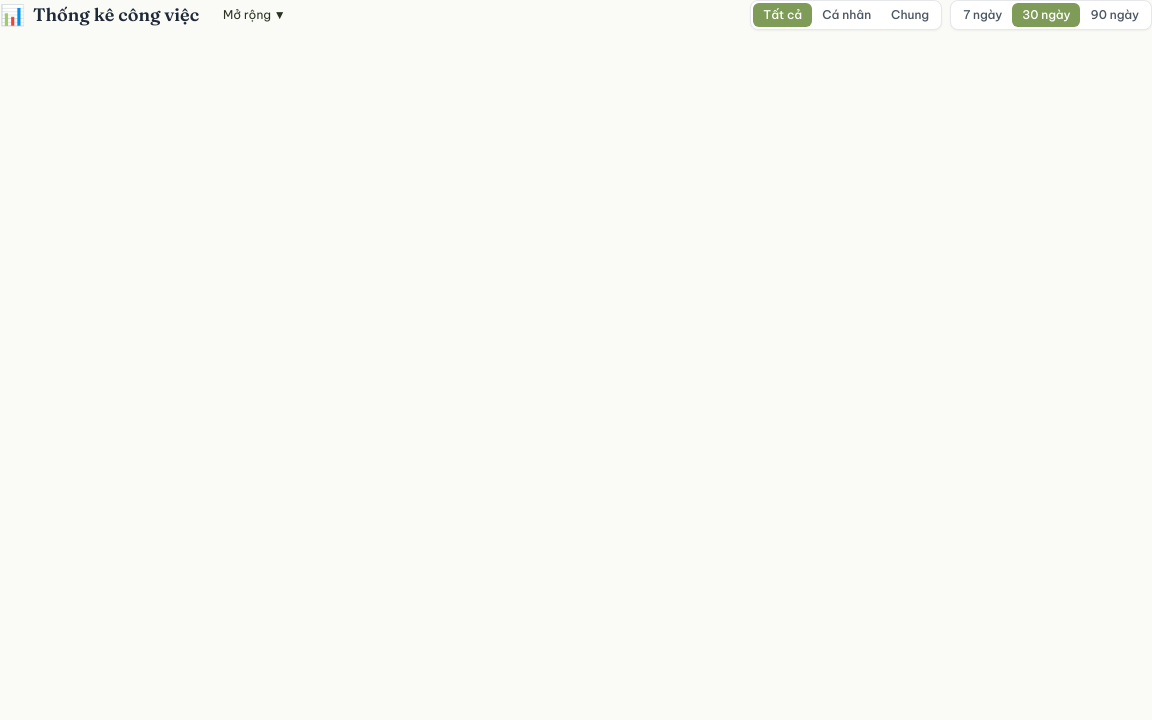
Test: StatsPanel component › toggles collapse state when collapsible prop is true
This screenshot has width=1152, height=720.
Expected: the text "Tỷ lệ đúng hạn" is not shown
Note: Click to expand
What coordinates should you click on to do the following:
click the button named "Mở rộng thống kê"
I would click on:
 (254, 15)
Its box is x1=215 y1=3 x2=294 y2=27.
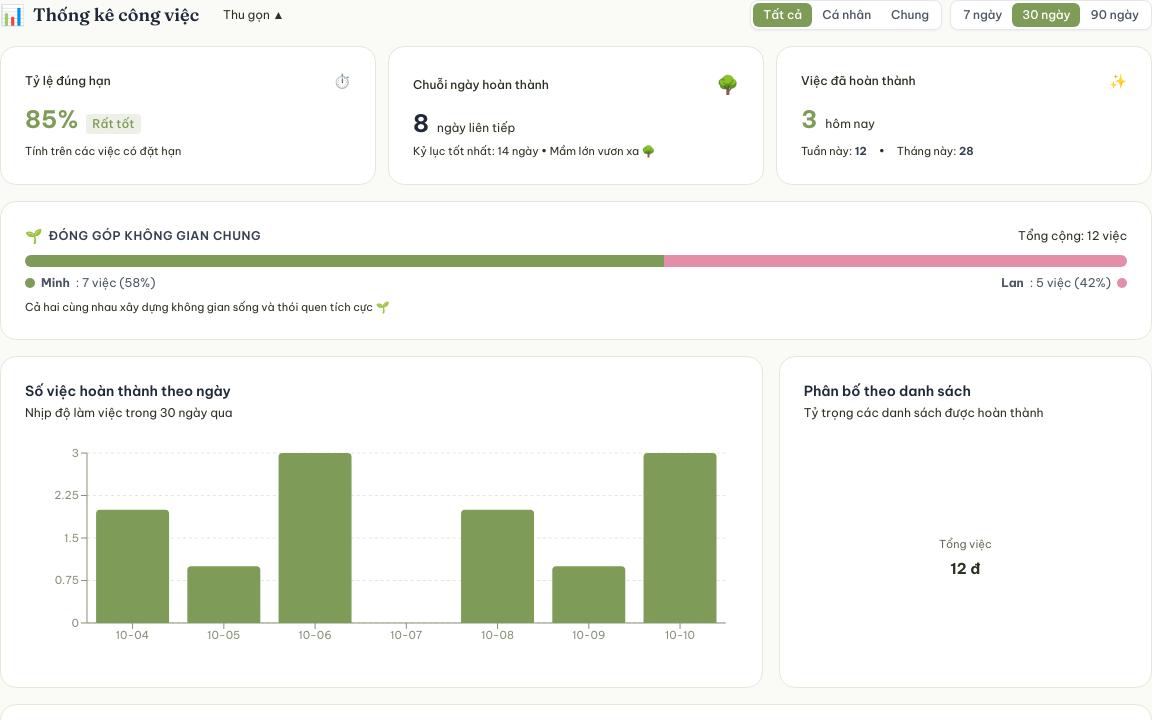
Expected: the text "Tỷ lệ đúng hạn" is shown, x1=25 y1=73 x2=111 y2=89
What coordinates should you click on to do the following:
click the button named "Thu gọn thống kê"
I would click on:
 (254, 15)
Its box is x1=215 y1=3 x2=292 y2=27.
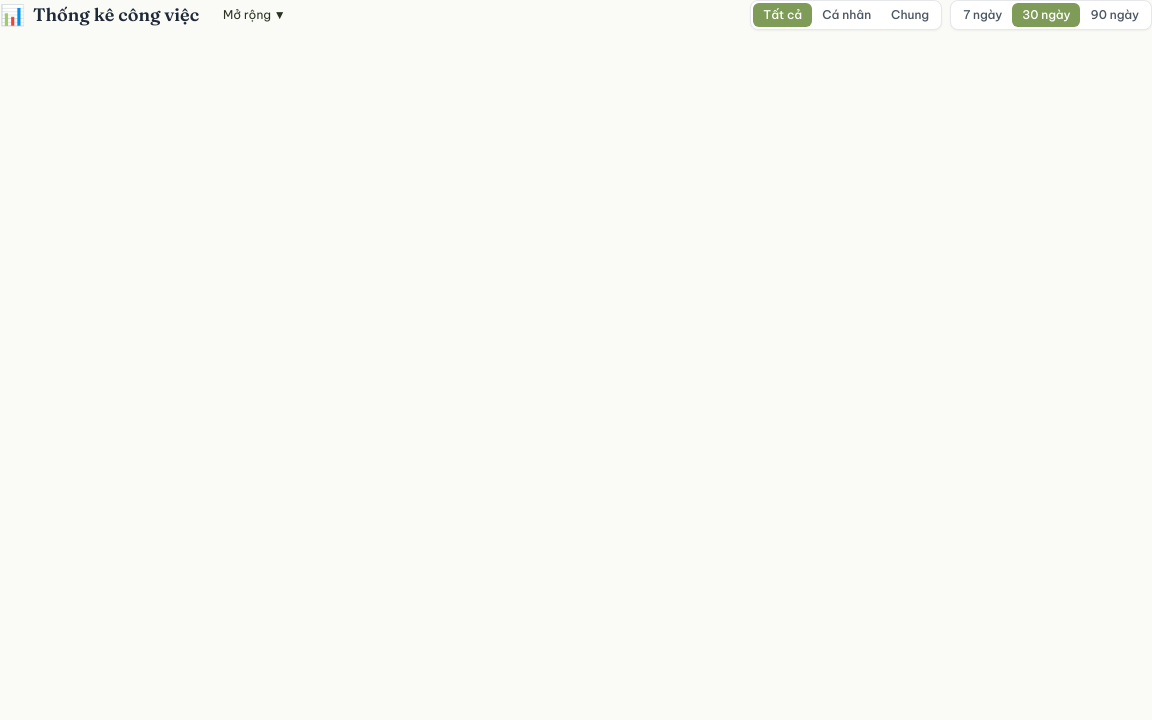
Expected: the text "Tỷ lệ đúng hạn" is gone
